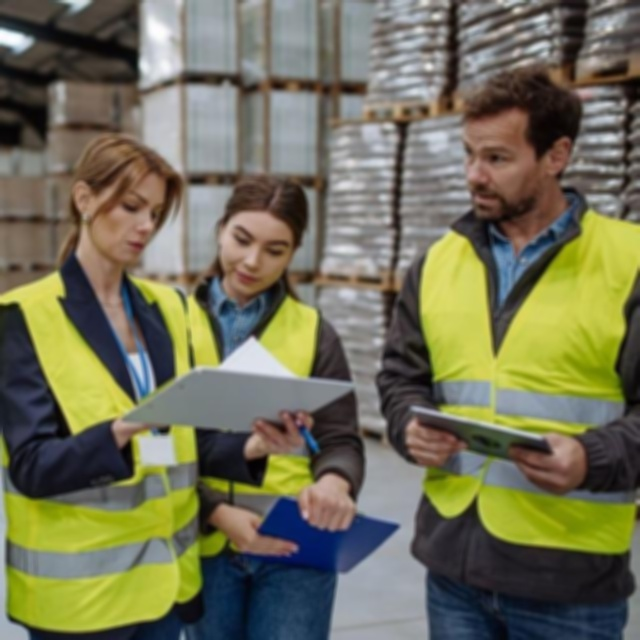Con_Chaleco: (406, 218, 640, 548), (0, 276, 202, 622), (184, 293, 329, 560)
Sin_Casco_Mascarrilla: (460, 67, 583, 219), (72, 130, 180, 267), (216, 173, 309, 293)
